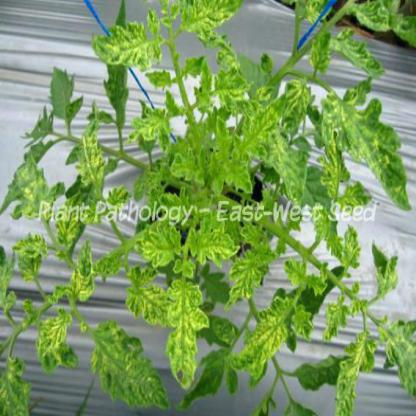tomato leaf yellow virus: (334, 89, 409, 214), (90, 314, 167, 415), (216, 95, 289, 185), (221, 307, 298, 383), (93, 10, 164, 79), (165, 276, 203, 390), (329, 327, 374, 415), (227, 227, 276, 306), (6, 145, 56, 221), (175, 1, 258, 42), (361, 239, 409, 308), (322, 30, 387, 79), (71, 134, 112, 205), (269, 123, 305, 195), (123, 275, 171, 329), (15, 224, 48, 289), (38, 318, 77, 373), (137, 224, 183, 268), (193, 223, 238, 267), (69, 239, 97, 304), (129, 107, 169, 149), (336, 228, 364, 278)
